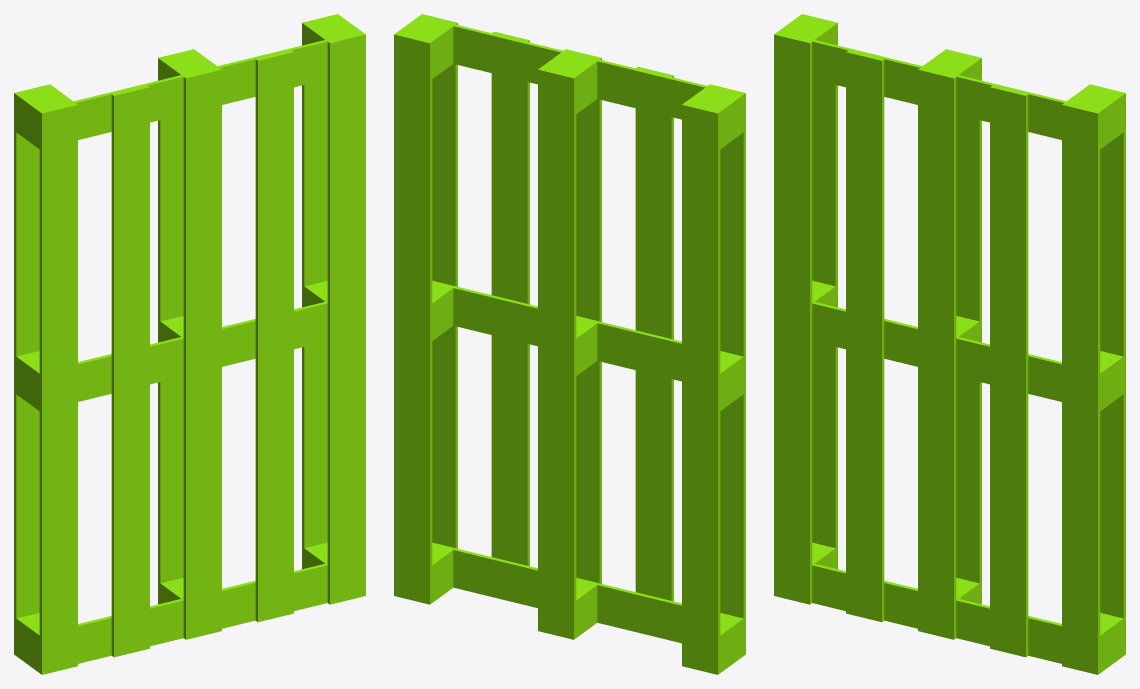
Rendered from palette verte.glb.
The picture shows the model from 3 angles, left to right: view 1: azimuth 30°, elevation 25°; view 2: azimuth 150°, elevation 25°; view 3: azimuth 330°, elevation 25°; orthographic projection.
Visible parts, largest first — view 1: Part 1; view 2: Part 1; view 3: Part 1.
Boxes of the visible parts, x1=… form: Part 1: x1=14, y1=14, x2=365, y2=674; Part 1: x1=394, y1=14, x2=745, y2=674; Part 1: x1=774, y1=14, x2=1125, y2=674.
Bounding box in the file's own units: 0.8 × 1.33 × 0.12.
